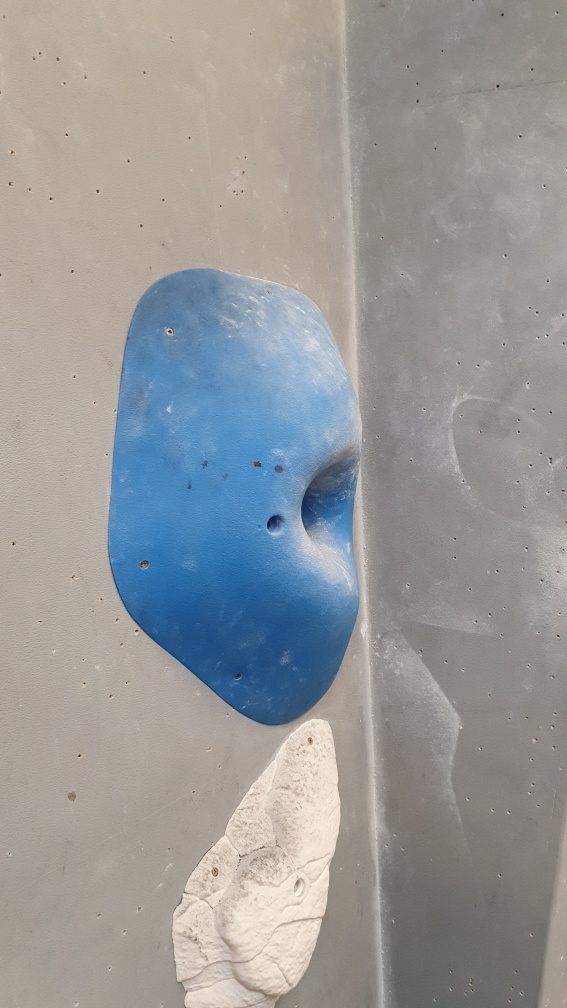Pocket: (110, 262, 366, 735)
